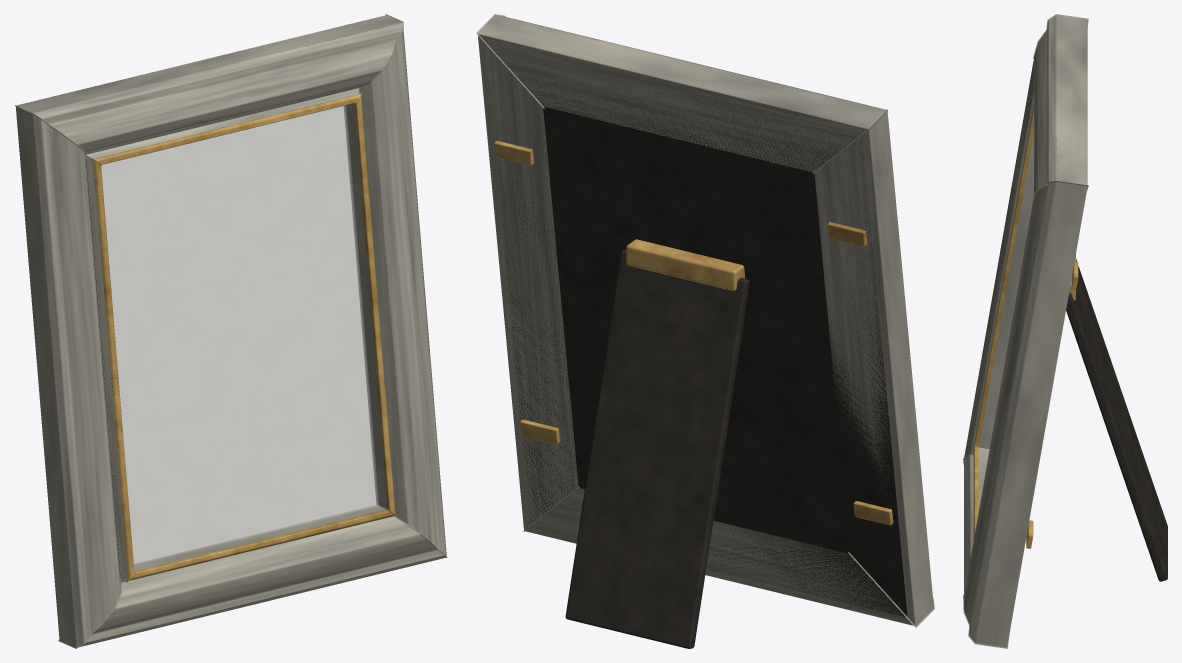
The model's file is portarretrato_4.gltf.
3 renders of one model, left to right at view 1: azimuth 30°, elevation 25°; view 2: azimuth 150°, elevation 25°; view 3: azimuth 270°, elevation 25°, orthographic. The views are drawn at different scales.
Visible parts, largest first — view 1: cristal, foto, liston.003, liston.001, liston.002, liston, ribete.001, ribete.003, ribete, ribete.002; view 2: respaldo, soporte, liston.002, liston.003, liston.001, liston, bisagra, seguro.002, seguro, seguro.001, seguro.003; view 3: liston.001, liston.002, soporte, liston.003, ribete.003, liston, ribete.
Boxes of the visible parts, left/top/right/bottom form: cristal: left=101, top=106, right=378, bottom=565; foto: left=101, top=106, right=376, bottom=563; liston.003: left=14, top=105, right=127, bottom=648; liston.001: left=343, top=31, right=446, bottom=555; liston.002: left=16, top=14, right=403, bottom=158; liston: left=80, top=504, right=447, bottom=646; ribete.001: left=353, top=97, right=396, bottom=516; ribete.003: left=92, top=158, right=135, bottom=582; ribete: left=130, top=509, right=396, bottom=580; ribete.002: left=92, top=92, right=361, bottom=164; respaldo: left=492, top=66, right=907, bottom=617; soporte: left=565, top=250, right=749, bottom=648; liston.002: left=476, top=14, right=887, bottom=173; liston.003: left=813, top=110, right=934, bottom=627; liston.001: left=478, top=36, right=579, bottom=531; liston: left=523, top=487, right=913, bottom=625; bisagra: left=626, top=239, right=745, bottom=290; seguro.002: left=827, top=222, right=867, bottom=246; seguro: left=853, top=501, right=893, bottom=525; seguro.001: left=520, top=419, right=559, bottom=444; seguro.003: left=494, top=140, right=533, bottom=165; liston.001: left=963, top=181, right=1088, bottom=648; liston.002: left=1033, top=14, right=1088, bottom=193; soporte: left=1066, top=259, right=1167, bottom=581; liston.003: left=964, top=61, right=1033, bottom=457; ribete.003: left=974, top=104, right=1033, bottom=446; liston: left=963, top=447, right=989, bottom=627; ribete: left=972, top=446, right=980, bottom=539.
Size of the model in its own units: 0.1605 by 0.21 by 0.0833.
7 materials, 6 textured.
